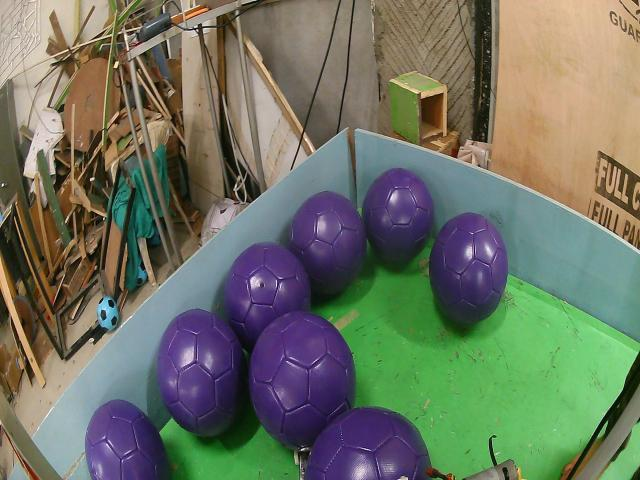jambhalya: (249, 312, 356, 450), (158, 308, 248, 437), (225, 242, 311, 352), (305, 407, 431, 480), (429, 213, 508, 325), (291, 192, 366, 295), (362, 168, 434, 263), (85, 400, 170, 480)
